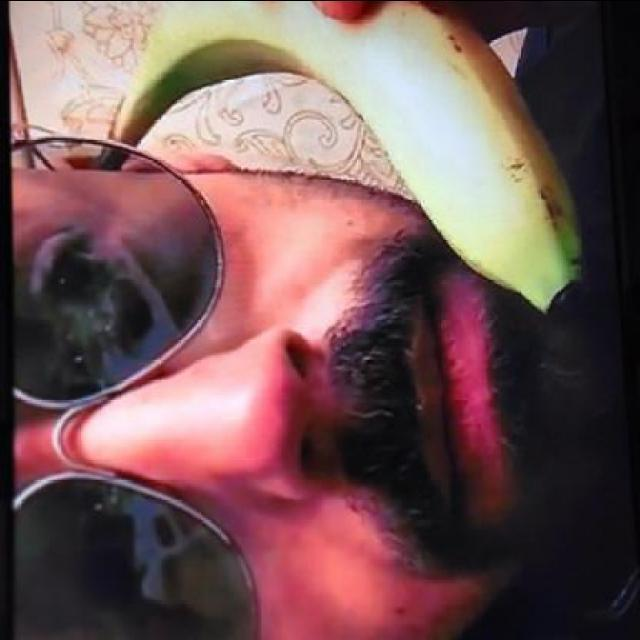Banana: (91, 1, 589, 318)
